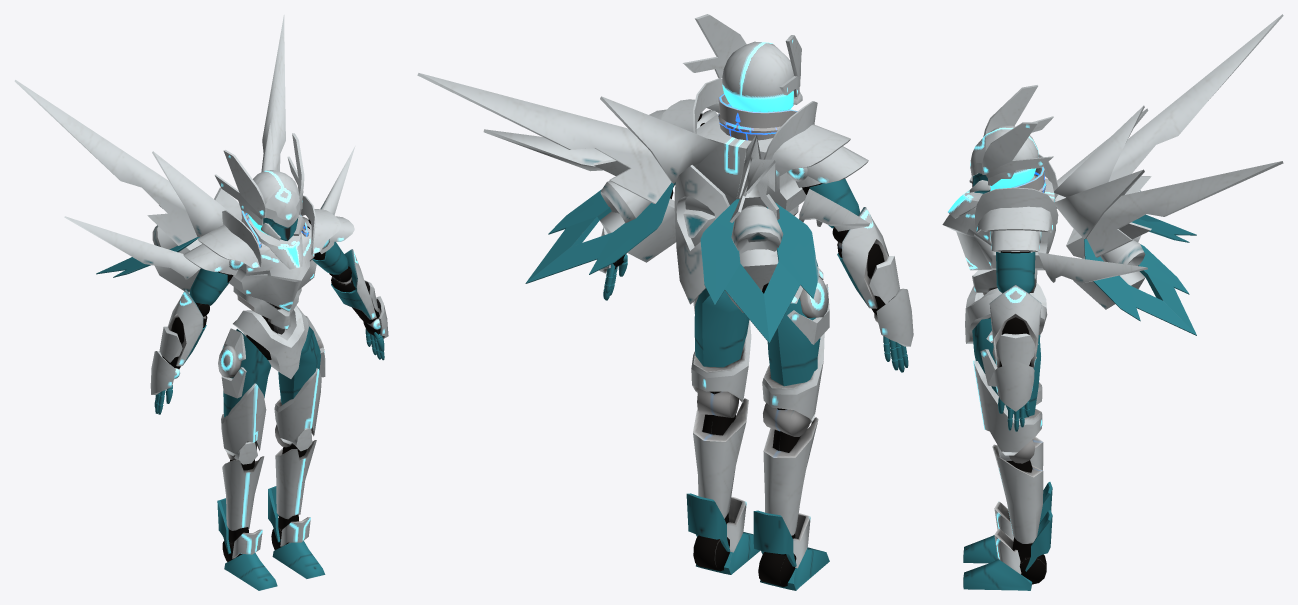
Rendered from Male_2.glb.
3 views of the same model, side by side, from view 1: azimuth 30°, elevation 25°; view 2: azimuth 150°, elevation 25°; view 3: azimuth 270°, elevation 25° (orthographic). The views are drawn at different scales.
Visible parts, largest first — view 1: M1.1, WM2, H, AM, AMR, AMH1.001, AML, AMH2, NTC, AMM2; view 2: WM2, M1.1, H, AM, AMR, AMH1.001, Object001, AML, AMM2; view 3: WM2, M1.1, H, AML, AM, AMH2, AMM1, NTC.
Part boxes in pixels (x1,y1,x2,y2): M1.1: [150, 216, 388, 590]; WM2: [14, 15, 355, 292]; H: [214, 133, 304, 240]; AM: [229, 227, 316, 311]; AMR: [197, 210, 261, 268]; AMH1.001: [167, 289, 206, 366]; AML: [301, 195, 340, 254]; AMH2: [331, 249, 376, 319]; NTC: [248, 219, 302, 269]; AMM2: [183, 244, 229, 271]; WM2: [417, 73, 869, 343]; M1.1: [599, 110, 913, 590]; H: [683, 14, 802, 111]; AM: [695, 113, 806, 211]; AMR: [763, 101, 850, 177]; AMH1.001: [837, 207, 888, 308]; Object001: [718, 94, 797, 140]; AML: [660, 78, 723, 133]; AMM2: [807, 146, 868, 183]; WM2: [1038, 14, 1283, 335]; M1.1: [963, 231, 1052, 590]; H: [969, 85, 1053, 193]; AML: [975, 187, 1058, 232]; AM: [942, 178, 1055, 270]; AMH2: [989, 284, 1041, 367]; AMM1: [991, 230, 1039, 251]; NTC: [948, 176, 1035, 218].
Size of the model in its own units: 3.77 by 5.34 by 3.41.
3 materials, 3 textured.
